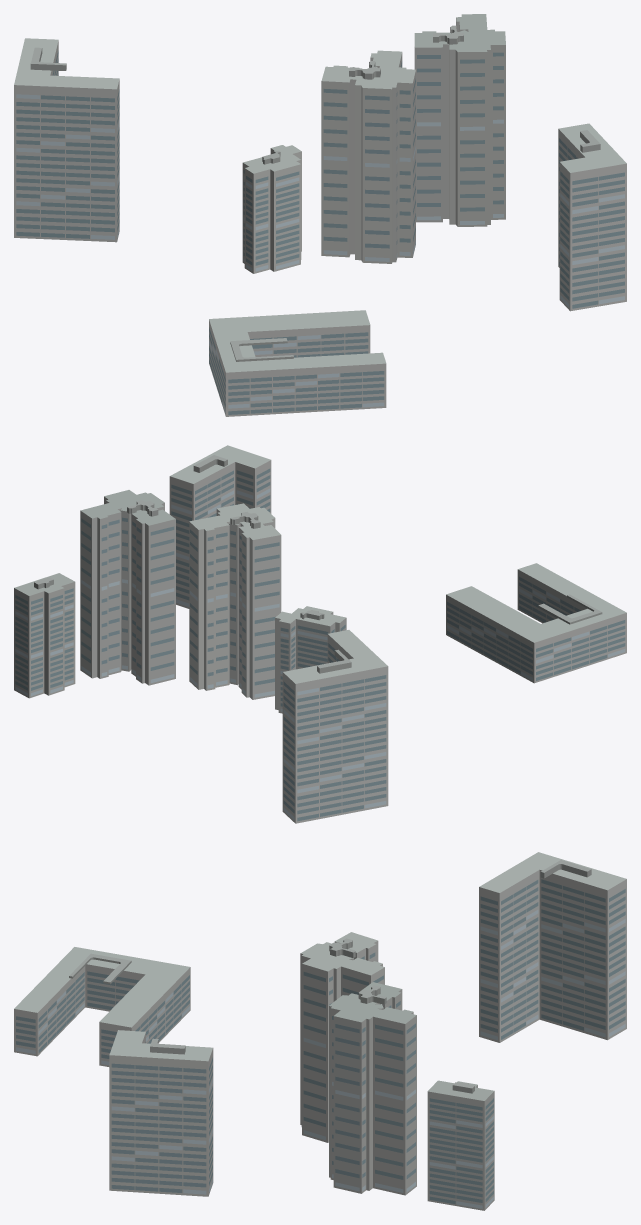
Rendered from apt-a13922003.glb.
3 views of the same model, one above another, from view 1: azimuth 30°, elevation 25°; view 2: azimuth 150°, elevation 25°; view 3: azimuth 270°, elevation 25° (orthographic). The views are drawn at different scales.
Parts seen in each view (by area): view 1: apt-a13922003; view 2: apt-a13922003; view 3: apt-a13922003.
Boxes of the visible parts, box(x1,y1,x2,y2) form: apt-a13922003: box(14, 14, 626, 416); apt-a13922003: box(14, 445, 626, 823); apt-a13922003: box(14, 852, 626, 1210).
Size of the model in its own units: 198 by 74 by 232.
